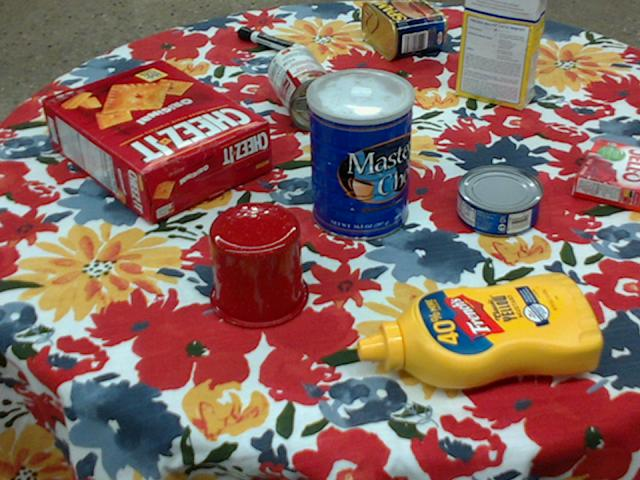cracker_box: (44, 60, 273, 222)
gelatin_box: (571, 139, 639, 212)
large_marker: (239, 25, 308, 57)
master_chef_can: (306, 67, 413, 241)
mug: (207, 201, 310, 329)
mustard_bottle: (359, 269, 604, 387)
potted_meat_can: (361, 0, 447, 59)
sugar_box: (455, 0, 548, 110)
tomato_soup_can: (267, 45, 345, 130)
tuna_fish_can: (458, 165, 544, 237)
